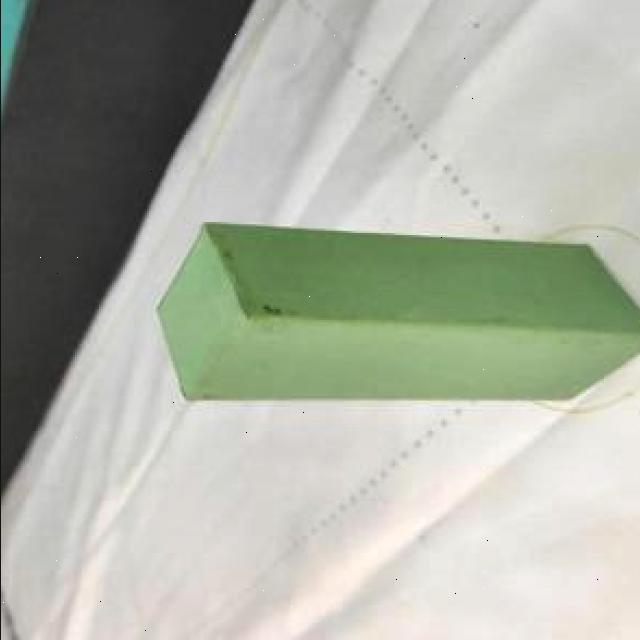greenbox: (152, 220, 640, 405)
